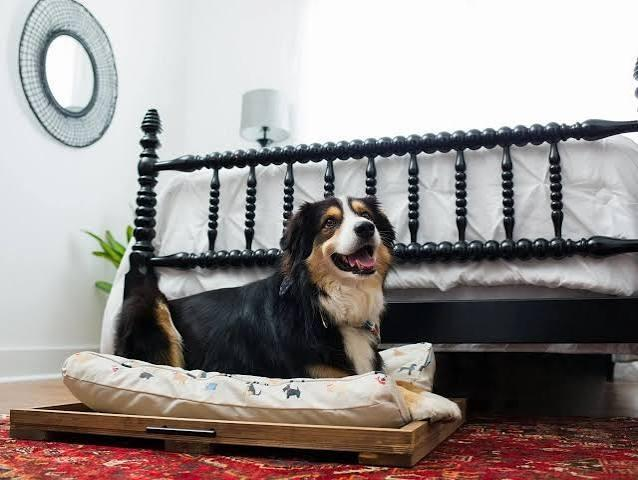adult_dog: (129, 195, 397, 378)
